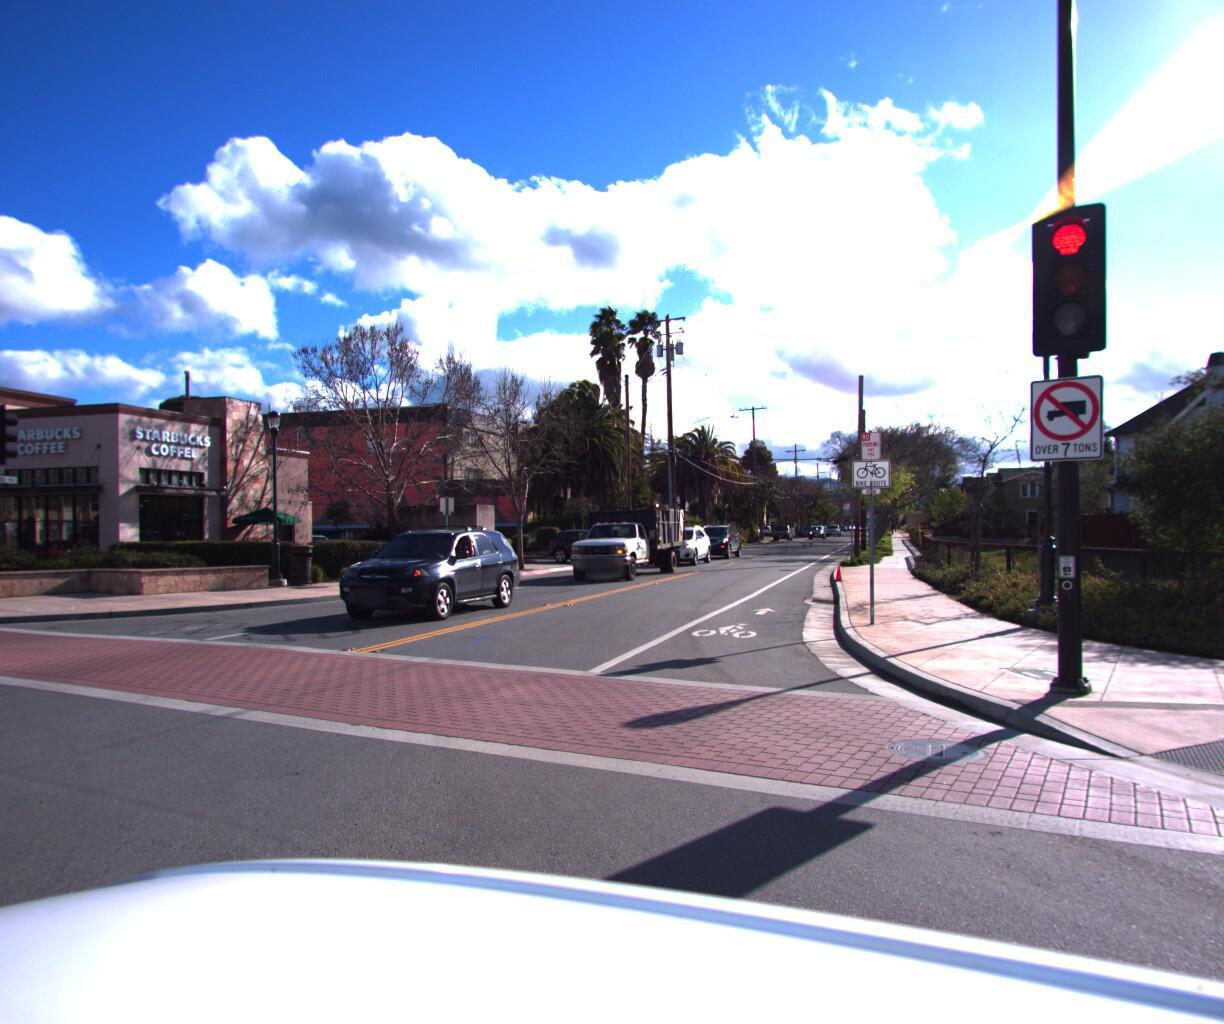car: (317, 523, 537, 629), (545, 528, 647, 566), (645, 526, 715, 567), (687, 526, 745, 560)
truck: (552, 495, 692, 585)
